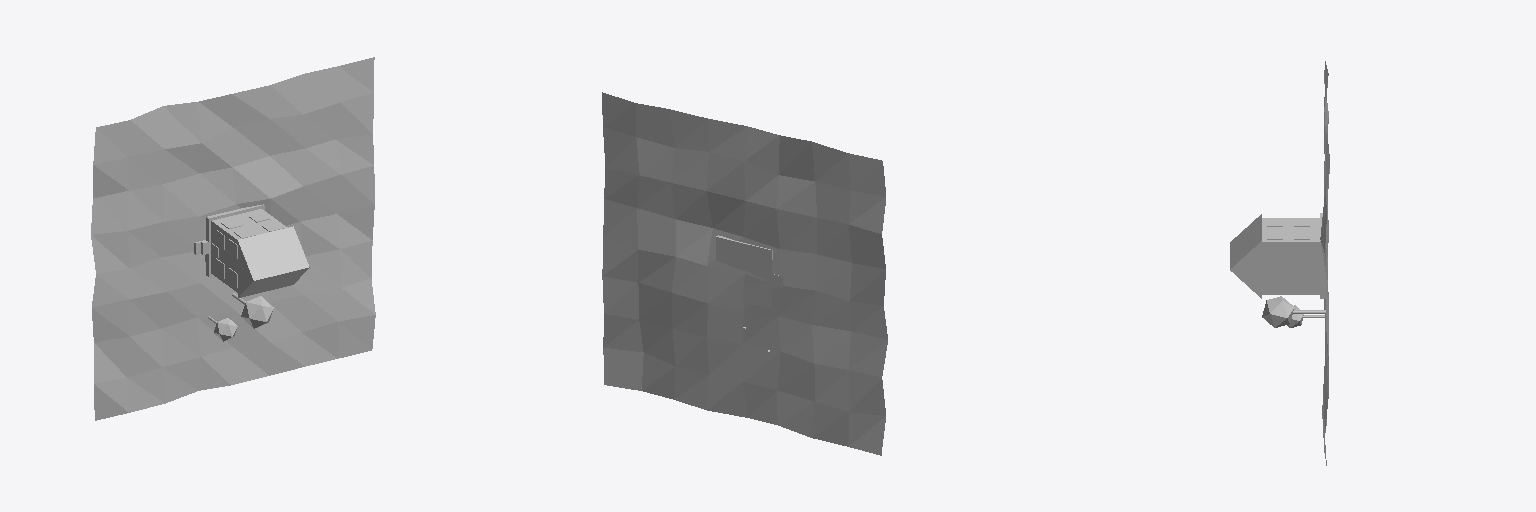
3 renders of one model, left to right at view 1: azimuth 30°, elevation 25°; view 2: azimuth 150°, elevation 25°; view 3: azimuth 270°, elevation 25°, orthographic.
Visible parts, largest first — view 1: boden_Plane.001, dach_Cube.002, haus_Cube.001, fundament_Cube, Icosphere; view 2: boden_Plane.001, fundament_Cube; view 3: haus_Cube.001, dach_Cube.002, boden_Plane.001, Icosphere.
Part boxes in pixels (bbox=[...]): boden_Plane.001: bbox=[91, 57, 375, 420]; dach_Cube.002: bbox=[238, 226, 309, 297]; haus_Cube.001: bbox=[211, 209, 287, 292]; fundament_Cube: bbox=[194, 204, 264, 276]; Icosphere: bbox=[241, 296, 273, 328]; boden_Plane.001: bbox=[602, 92, 887, 455]; fundament_Cube: bbox=[716, 235, 782, 308]; haus_Cube.001: bbox=[1262, 218, 1319, 294]; dach_Cube.002: bbox=[1230, 214, 1261, 298]; boden_Plane.001: bbox=[1320, 61, 1329, 465]; Icosphere: bbox=[1262, 296, 1294, 327].
Size of the model in its own units: 10.17 by 10.17 by 3.11.